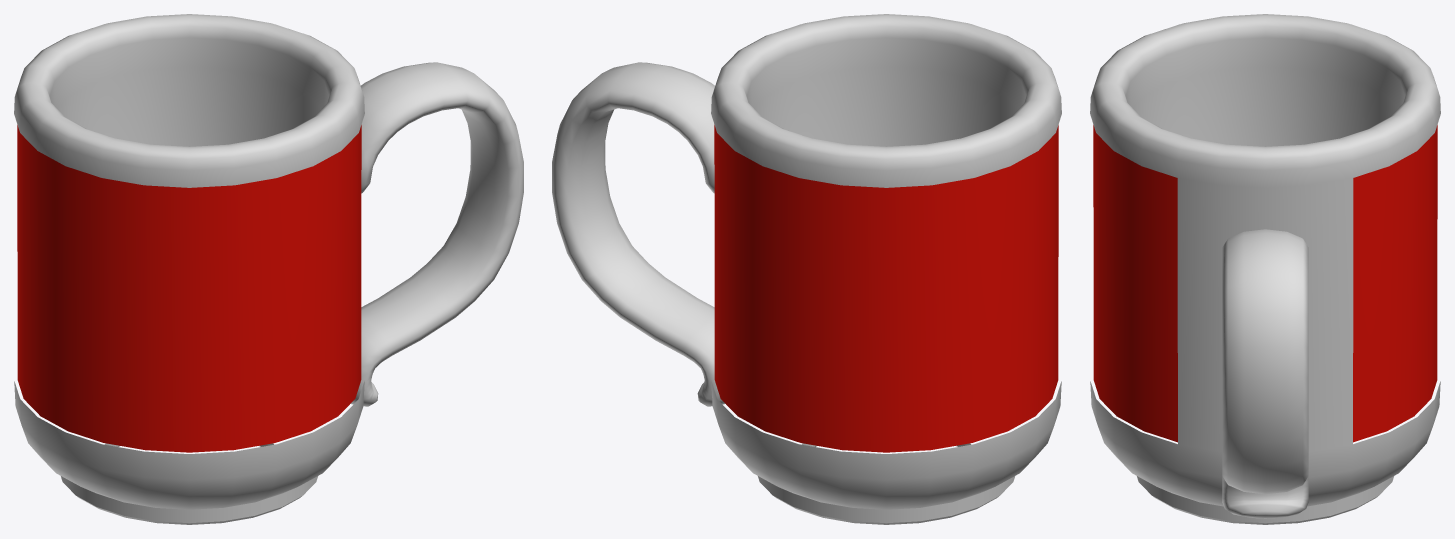
The model's file is cofee.glb.
The picture shows the model from 3 angles, left to right: view 1: azimuth 30°, elevation 25°; view 2: azimuth 150°, elevation 25°; view 3: azimuth 270°, elevation 25°; orthographic projection.
Visible parts, largest first — view 1: coffeeMug; view 2: coffeeMug; view 3: coffeeMug.
Part boxes in pixels (x1,y1,x2,y2): coffeeMug: [14, 14, 523, 524]; coffeeMug: [552, 14, 1061, 524]; coffeeMug: [1090, 14, 1440, 524].
Size of the model in its own units: 22.81 by 17.8 by 14.57.
